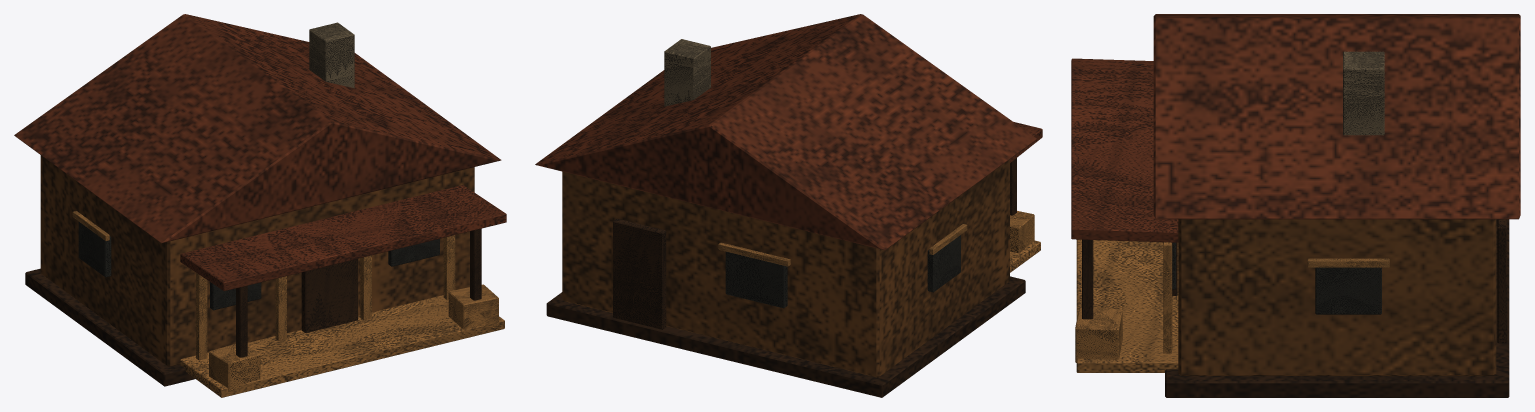
File: north_bank_homestead.glb
3 renders of one model, left to right at view 1: azimuth 30°, elevation 25°; view 2: azimuth 150°, elevation 25°; view 3: azimuth 270°, elevation 25°, orthographic. The views are drawn at different scales.
Parts seen in each view (by area): view 1: north_bank_homestead; view 2: north_bank_homestead; view 3: north_bank_homestead.
Part boxes in pixels (left/top/right/bottom): north_bank_homestead: left=14, top=14, right=506, bottom=397; north_bank_homestead: left=535, top=14, right=1042, bottom=397; north_bank_homestead: left=1071, top=14, right=1520, bottom=397.
Size of the model in its own units: 6.4 by 4.25 by 5.94.
Materials: 1 (1 with a texture image).
